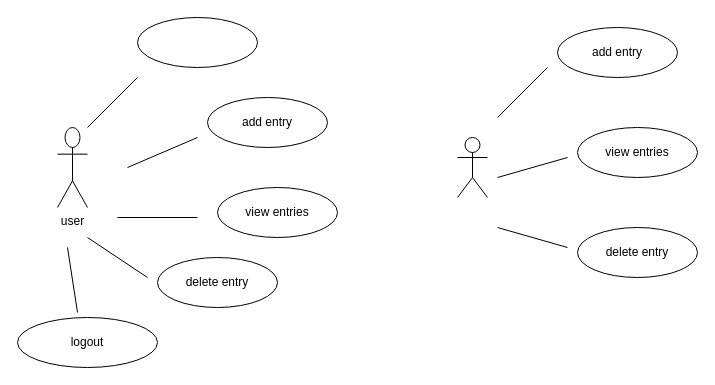
This 715x385 diagram has some shape labels left out. The shapes that lost their labels are listed below. From the top down, each one's centre as x and y in pixels, then its label:
the point at 197,42: login
the point at 472,167: diary
